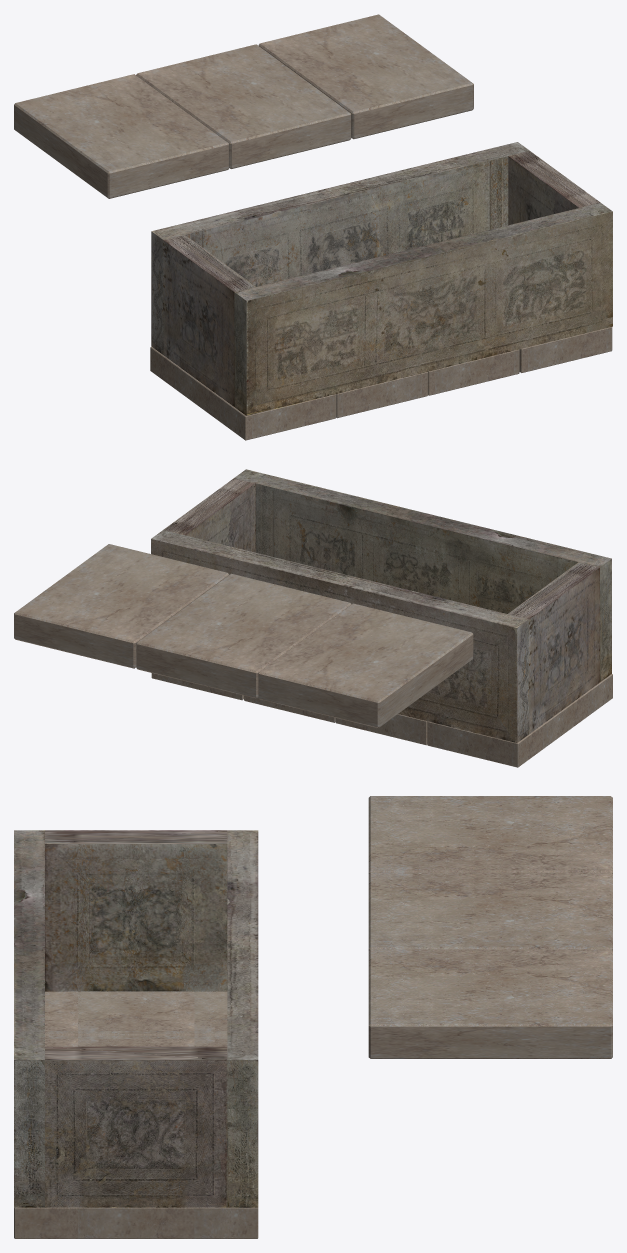
The model's file is shiguo.gltf.
The picture shows the model from 3 angles, top to bottom: view 1: azimuth 30°, elevation 25°; view 2: azimuth 150°, elevation 25°; view 3: azimuth 270°, elevation 25°; orthographic projection. The views are drawn at different scales.
Visible parts, largest first — view 1: 0008_Laven, _0007_Mist, Box02, Box04, Box03, 0002_Mediu, Box07, Group01, Group02, 0005_Light, Box01, Box05 (+5 smaller); view 2: 0009_Linen, Box02, Box04, Box03, _0006_Pink, 0002_Mediu, Box07, Group02, Group01, 0005_Light, Group03, Group04 (+5 smaller); view 3: 0004_HotPi, 0003_DeepP, Box04, Box03, Box02, Box07, Box01, Group01, Group02, 0015_Salmo, 0013_Light, Group04 (+2 smaller).
Boxes of the visible parts, x1,y1,x2,y2 form: 0008_Laven: (246, 211, 612, 415); _0007_Mist: (185, 156, 508, 286); Box02: (14, 74, 229, 198); Box04: (258, 14, 473, 139); Box03: (136, 44, 351, 168); 0002_Mediu: (163, 240, 234, 406); Box07: (150, 346, 336, 440); Group01: (152, 142, 529, 239); Group02: (234, 203, 612, 300); 0005_Light: (508, 156, 578, 225); Box01: (519, 327, 612, 372); Box05: (428, 349, 519, 395); 0009_Linen: (255, 483, 577, 613); Box02: (258, 603, 473, 728); Box04: (14, 544, 228, 668); Box03: (136, 573, 351, 698); _0006_Pink: (151, 539, 516, 742); 0002_Mediu: (529, 568, 599, 733); Box07: (427, 674, 612, 767); Group02: (234, 469, 611, 567); Group01: (151, 530, 528, 627); 0005_Light: (185, 483, 255, 552); Group03: (163, 478, 254, 535); Group04: (508, 562, 599, 619); 0004_HotPi: (45, 1060, 227, 1207); 0003_DeepP: (45, 844, 227, 991); Box04: (368, 949, 612, 1058); Box03: (368, 872, 612, 950); Box02: (368, 796, 612, 873); Box07: (45, 991, 227, 1035); Box01: (14, 1207, 258, 1238); Group01: (227, 830, 258, 1059); Group02: (14, 830, 44, 1059); 0015_Salmo: (227, 1060, 258, 1207); 0013_Light: (14, 1060, 44, 1207); Group04: (45, 830, 227, 843).
Bounding box in the file's own units: 2.81 × 1.22 × 3.09.
Materials: 17 (17 with a texture image).
